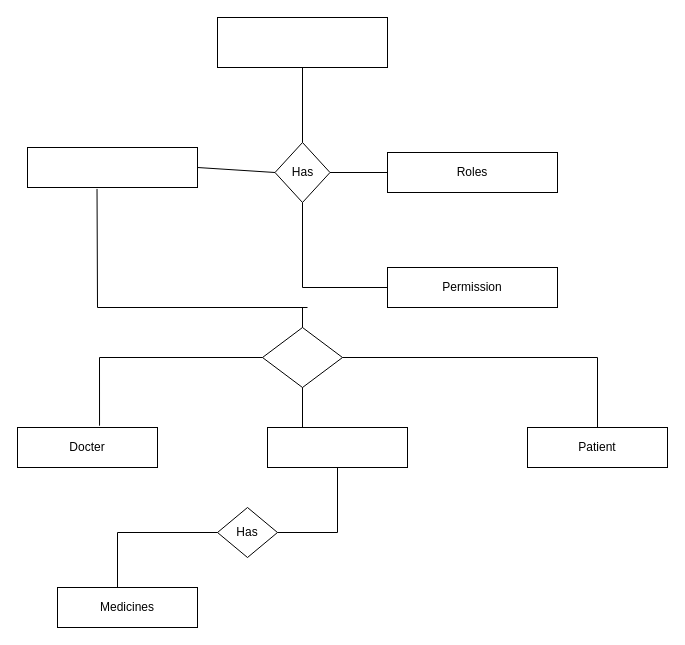
The diagram is 685 pixels wide and 645 high, and some of its shapes have lost their labels. The shapes that lost their labels are listed below. From the top down, each one's box as (x1, y1, x2, y2) in pixels, then its label:
(216, 16, 388, 68): Login
(26, 146, 198, 188): User
(262, 326, 342, 388): Manage
(266, 426, 408, 468): Hospital
